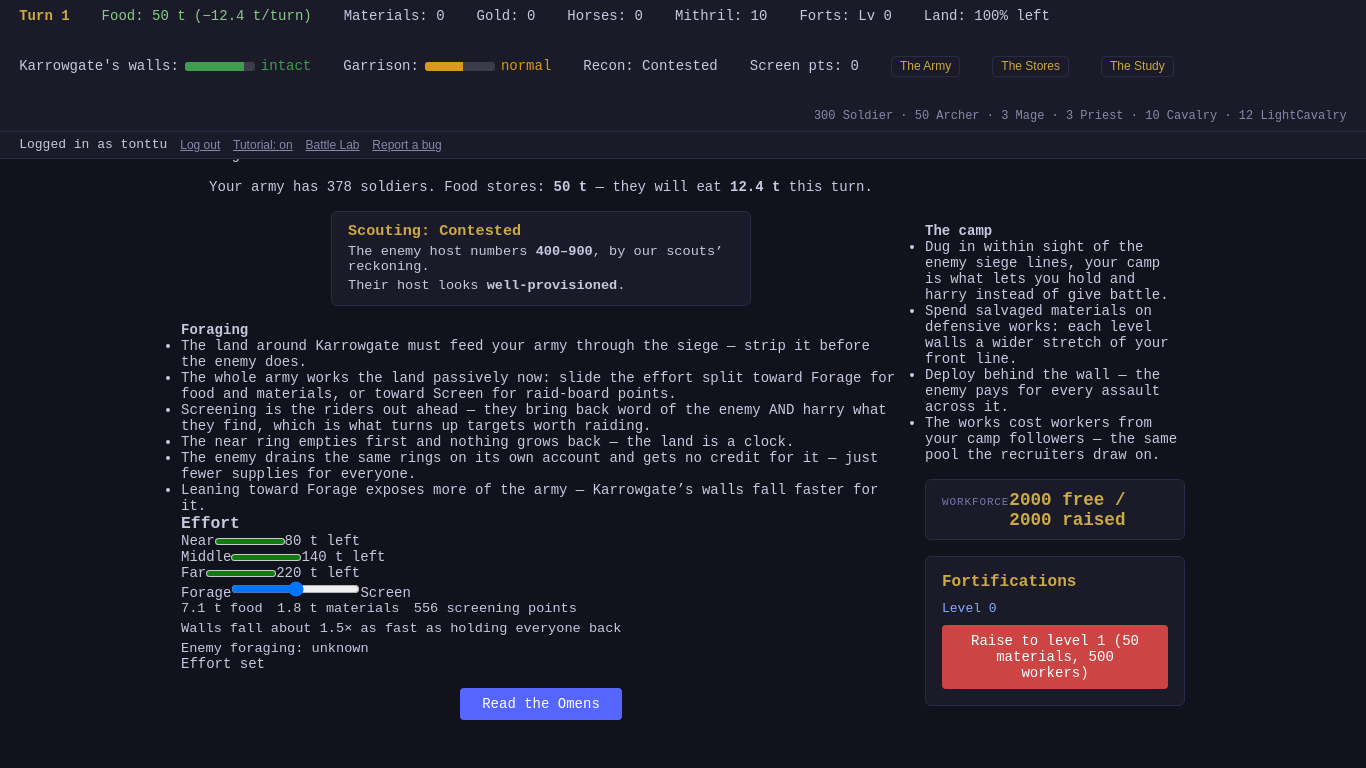
Test case: effort slider › previews food, materials, and screening points as the slider drags — no server round-trip
(page scrolled)
Expected: the text with test id "effort-preview-food" shows "7.1 t", [181, 601, 222, 616]
Expected: the text with test id "effort-preview-materials" shows "1.8 t", [277, 601, 318, 616]
Step 1. Set the slider with test id "effort-slider" showing "Forage Screen" to "1" → (352, 589), box [231, 581, 360, 597]
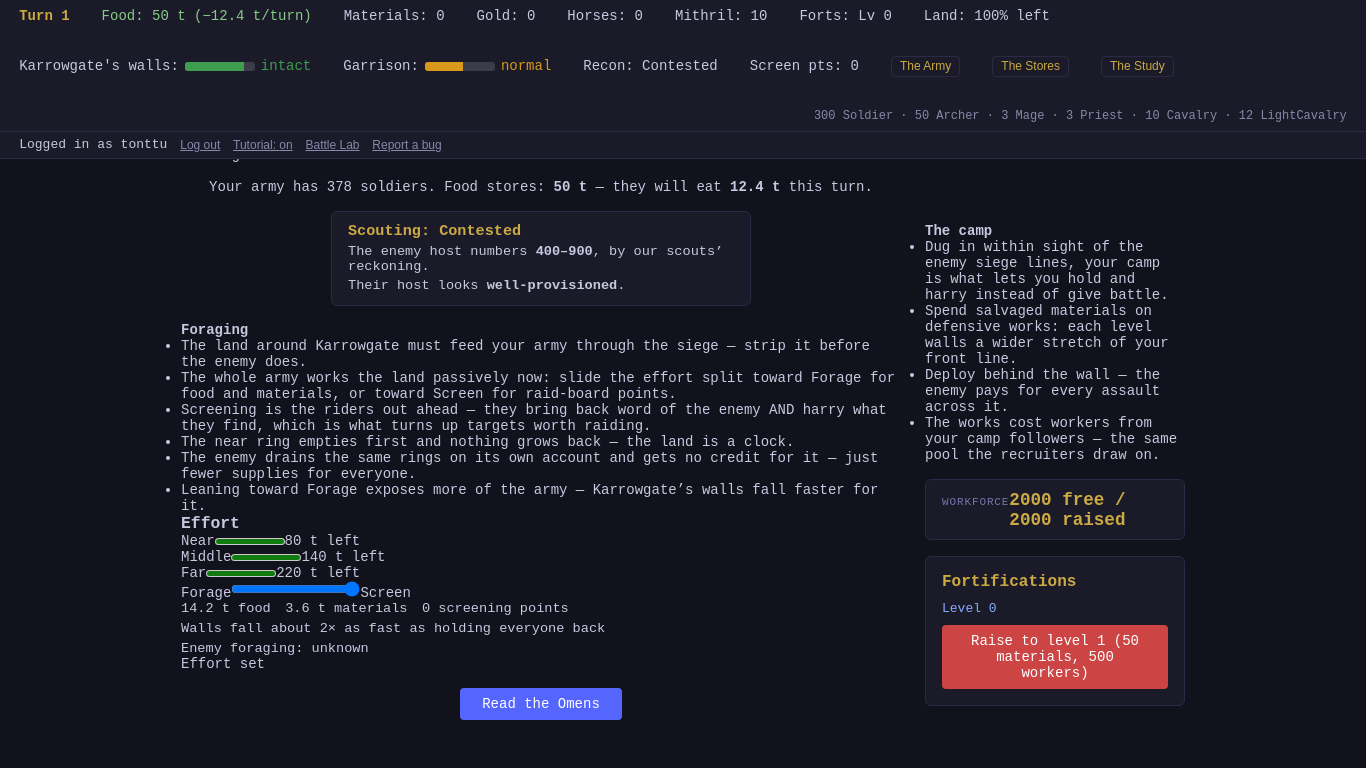
Result: the text with test id "effort-preview-food" shows "14.2 t" at [181, 601, 230, 616]
Result: the text with test id "effort-preview-scouting" reads "0 screening points" at [422, 601, 569, 616]
